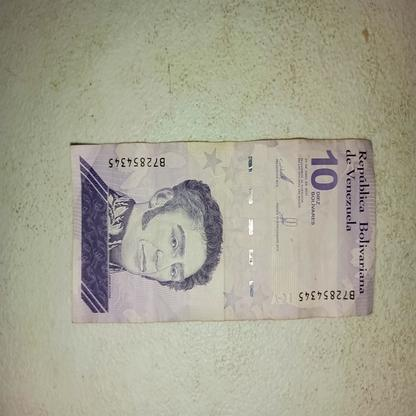vef_front: (70, 140, 376, 325)
